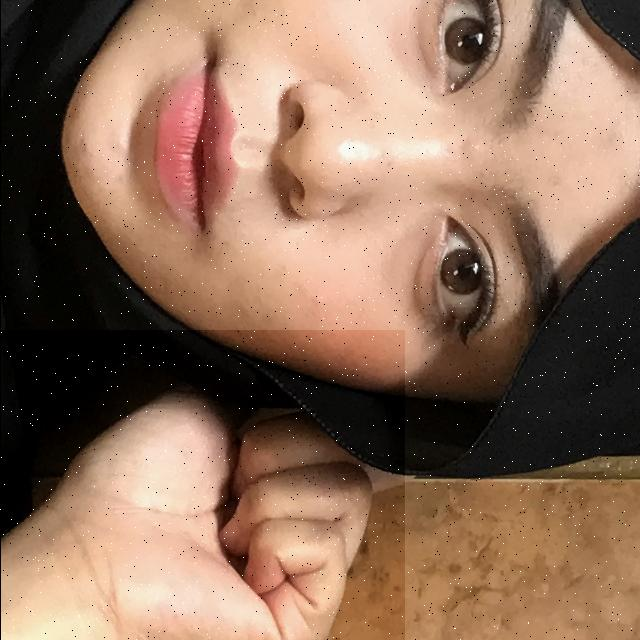ibu: (0, 330, 404, 640)
